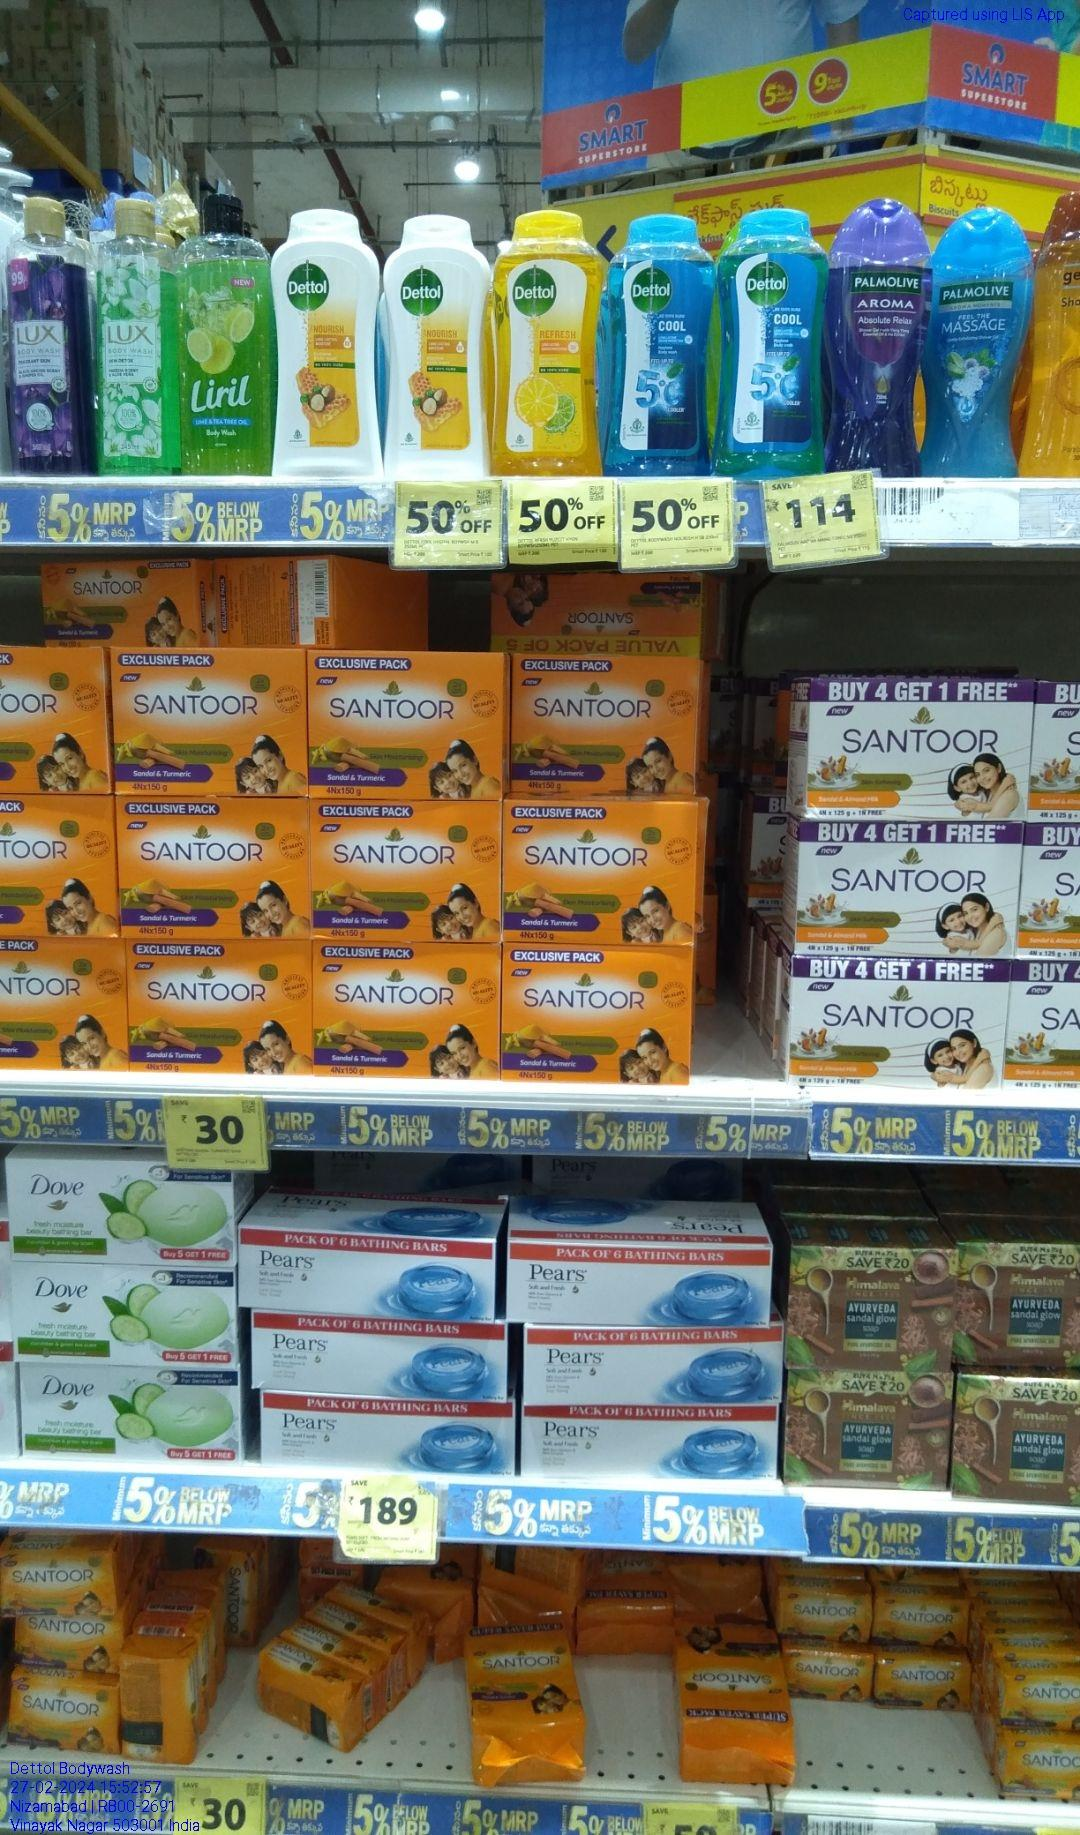Dettol_Bodywash_Cool: (721, 207, 825, 477), (608, 211, 708, 477)
Dettol_Bodywash_Refresh: (491, 206, 599, 482)
Dettol_Nourish_Body_Wash_250ML: (275, 203, 377, 479), (383, 213, 486, 482)
Liril_Lime_and_Tea_Tree_Oil_Body_Wash_250ML: (177, 191, 267, 479)
Lux_Black_Orchid_Scent_and_Juniper_Oil_Body_Wash_245ML: (4, 193, 87, 487)
Lux_Body_Wash_Skin_Detox_Freesia_Scent_and_Alove_Vera_245ML: (93, 193, 171, 477)
Palmolive_Aroma_Moments_Feel_The_Massage_Shower_Gel_250ML: (932, 209, 1022, 482)
Palmolive_Aroma_Relax_250ML: (833, 197, 926, 482)
